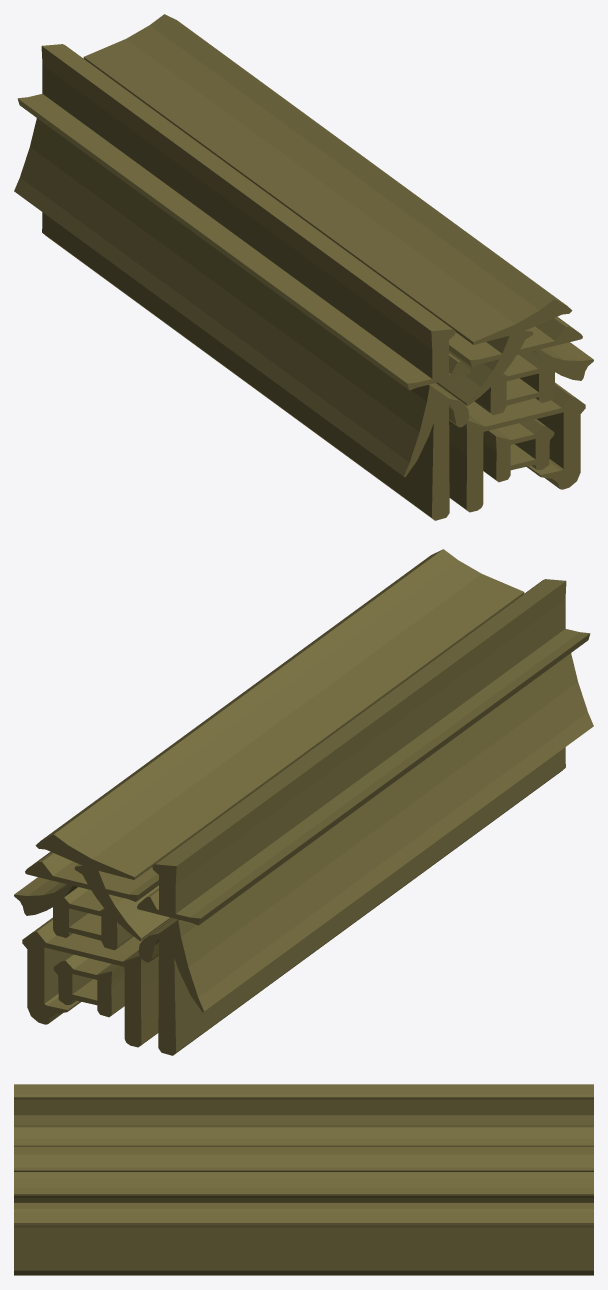
File: moji_hashi.obj
3 renders of one model, top to bottom at view 1: azimuth 30°, elevation 25°; view 2: azimuth 150°, elevation 25°; view 3: azimuth 270°, elevation 25°, orthographic. The views are drawn at different scales.
Visible parts, largest first — view 1: Text; view 2: Text; view 3: Text.
Part boxes in pixels (<box>): Text: <box>14,14,593,520</box>; Text: <box>14,549,593,1055</box>; Text: <box>14,1084,593,1275</box>.
Bounding box in the file's own units: 0.5634 × 0.5451 × 2.
